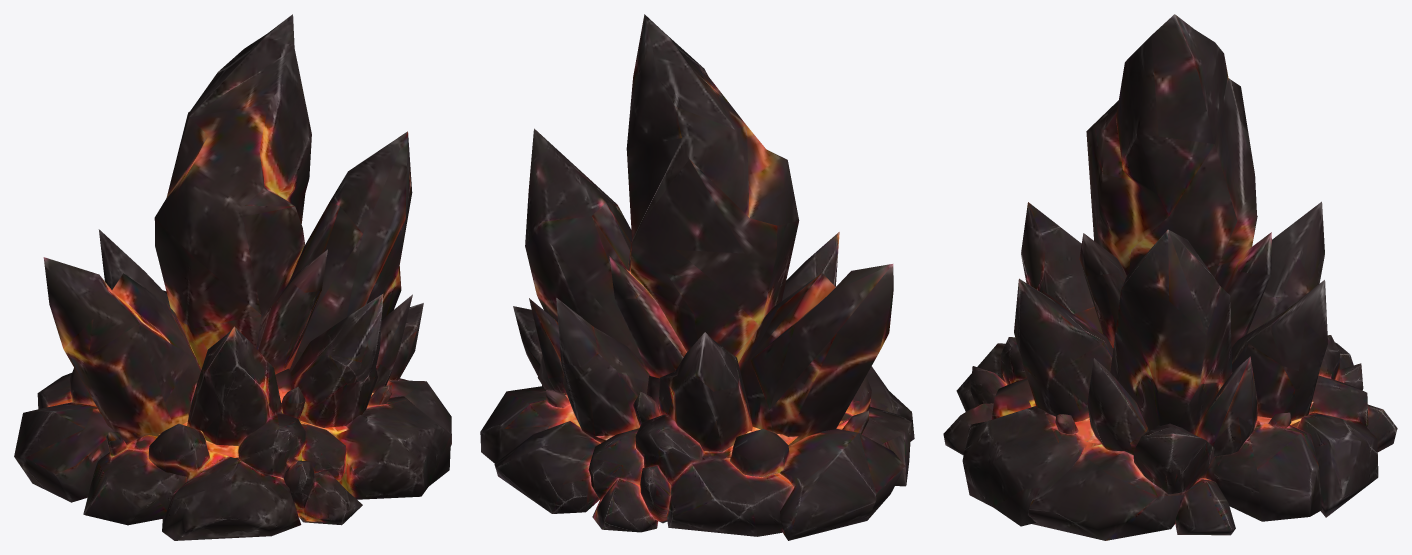
Rendered from lava_spikes_1.glb.
3 views of the same model, side by side, from view 1: azimuth 30°, elevation 25°; view 2: azimuth 150°, elevation 25°; view 3: azimuth 270°, elevation 25° (orthographic). The views are drawn at different scales.
Size of the model in its own units: 0.9414 by 1 by 0.8809.
Materials: 1 (1 with a texture image).
